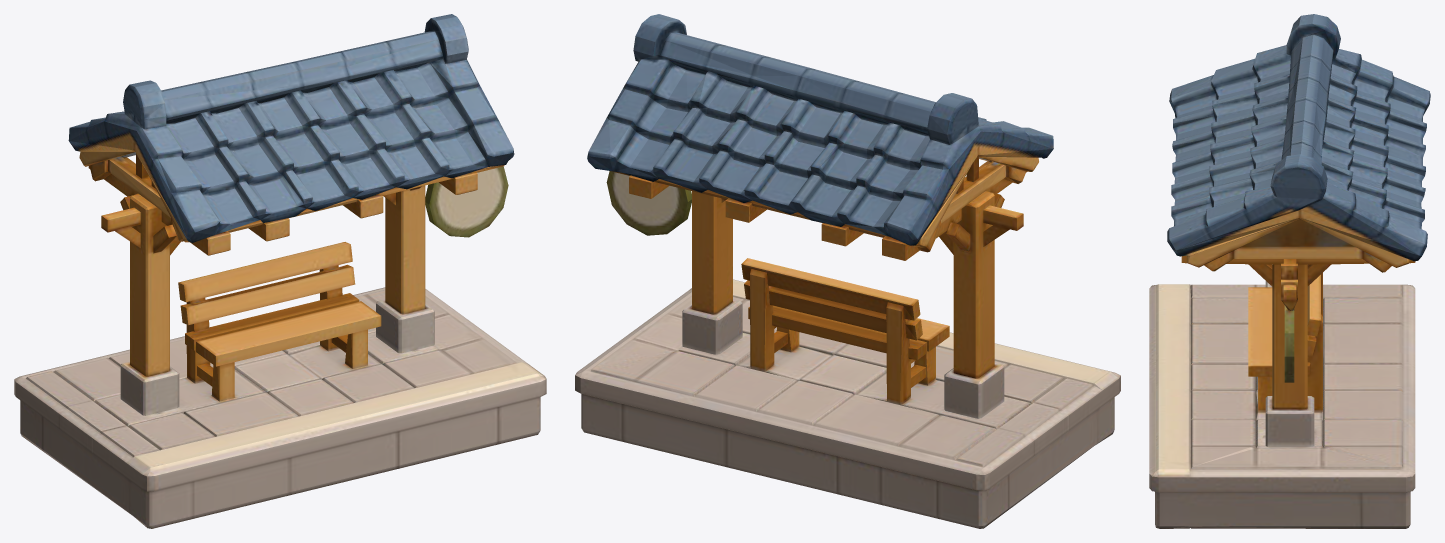
Rendered from platform-DMSBttEi.glb.
3 views of the same model, side by side, from view 1: azimuth 30°, elevation 25°; view 2: azimuth 150°, elevation 25°; view 3: azimuth 270°, elevation 25° (orthographic). The views are drawn at different scales.
Visible parts, largest first — view 1: tripo_node_41f9df1c-d40b-4cc3-a73e-7ba207b1eff2; view 2: tripo_node_41f9df1c-d40b-4cc3-a73e-7ba207b1eff2; view 3: tripo_node_41f9df1c-d40b-4cc3-a73e-7ba207b1eff2.
Boxes of the visible parts, x1,y1,x2,y2 form: tripo_node_41f9df1c-d40b-4cc3-a73e-7ba207b1eff2: [14, 14, 546, 528]; tripo_node_41f9df1c-d40b-4cc3-a73e-7ba207b1eff2: [575, 14, 1120, 528]; tripo_node_41f9df1c-d40b-4cc3-a73e-7ba207b1eff2: [1149, 14, 1430, 528].
Bounding box in the file's own units: 0.9759 × 0.7964 × 0.5633.
1 material, 1 textured.
